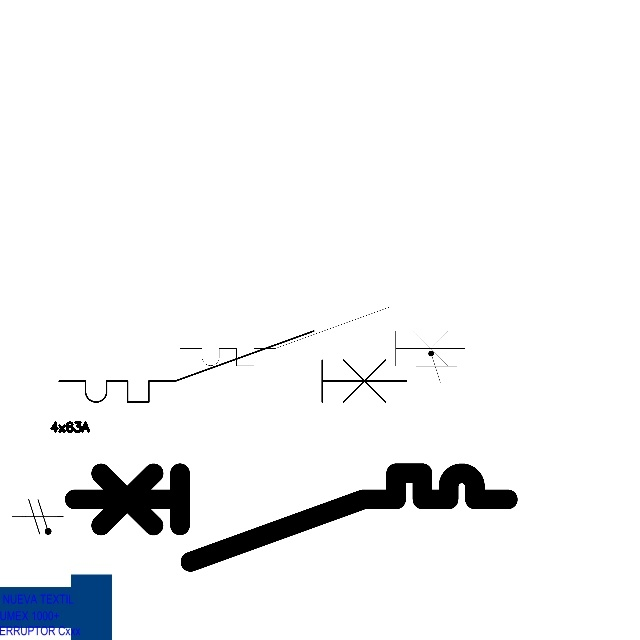interruptor_termomagnetico: (63, 462, 519, 573), (50, 322, 416, 411), (173, 300, 471, 373)
